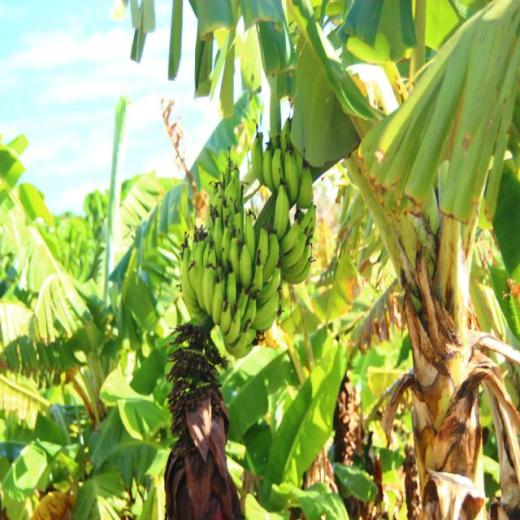Banana: (175, 116, 320, 360), (272, 178, 288, 235)
